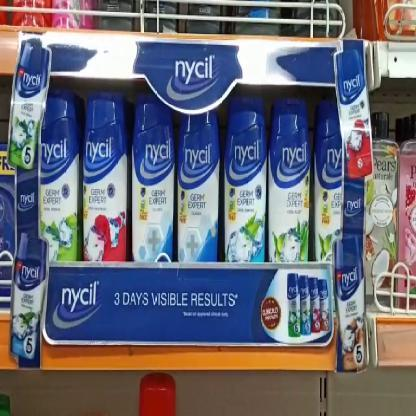Nycil Prickly Heat Powder: (83, 92, 127, 265), (224, 93, 268, 263), (38, 93, 80, 265), (270, 96, 312, 264), (132, 96, 173, 264), (178, 103, 220, 265), (315, 98, 345, 262)
